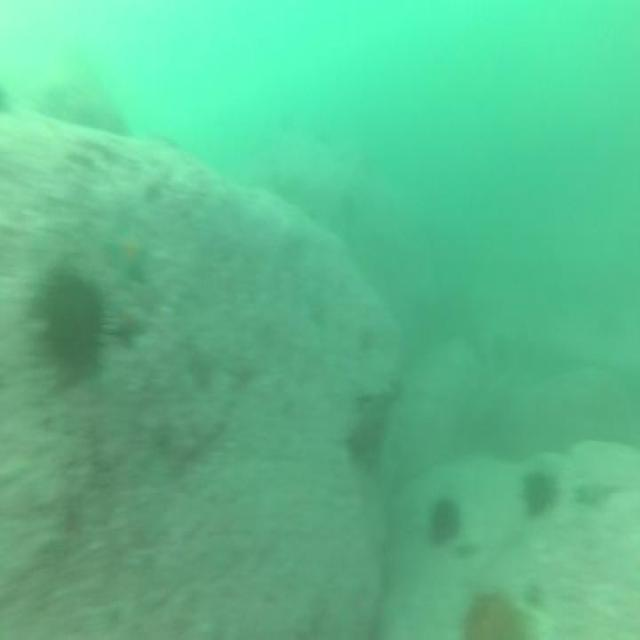echinus: (30, 268, 107, 388), (518, 464, 558, 524), (427, 495, 465, 550)
starfish: (104, 207, 154, 288)
